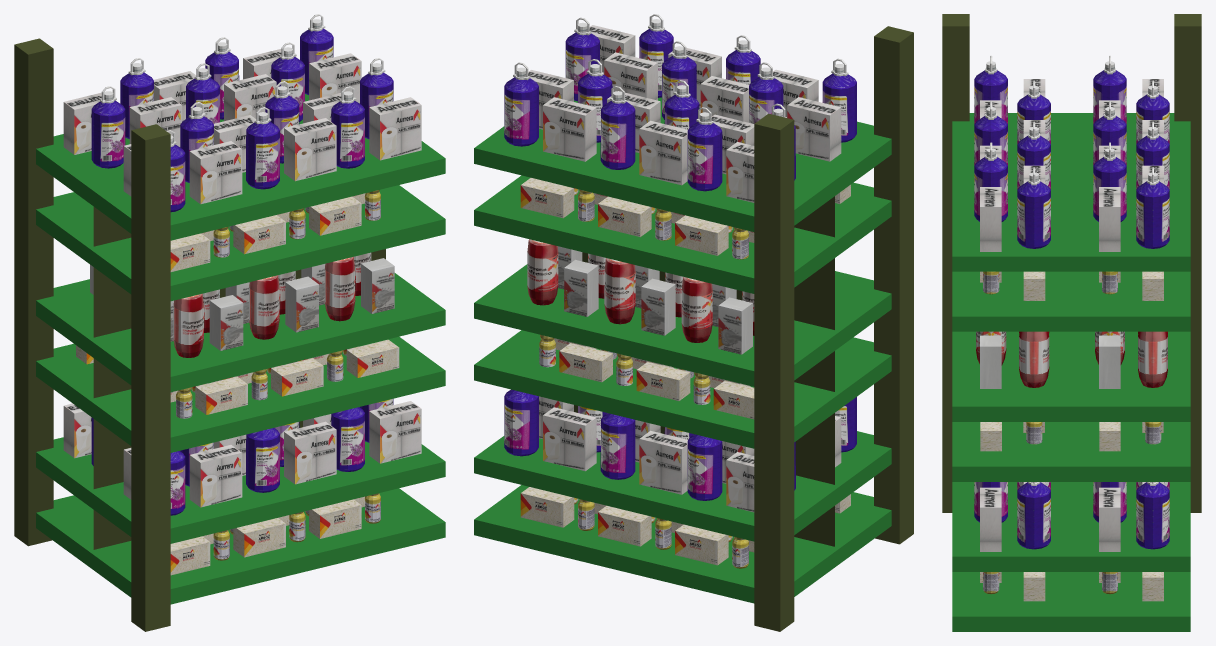
The model's file is almacen_lleno_com.fbx.
The picture shows the model from 3 angles, left to right: view 1: azimuth 30°, elevation 25°; view 2: azimuth 150°, elevation 25°; view 3: azimuth 270°, elevation 25°; orthographic projection. The views are drawn at different scales.
Parts seen in each view (by area): view 1: almacen lleno_com; view 2: almacen lleno_com; view 3: almacen lleno_com.
Boxes of the visible parts, x1,y1,x2,y2 form: almacen lleno_com: (14,14,445,631); almacen lleno_com: (474,14,913,631); almacen lleno_com: (942,14,1201,631).
Bounding box in the file's own units: 3230 × 4970 × 2400.
